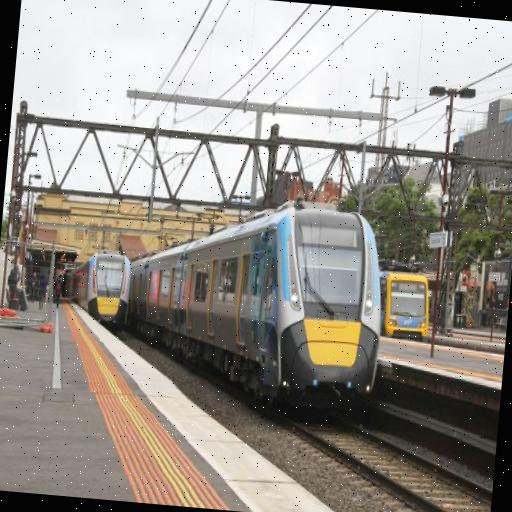Obstruction: (0, 239, 57, 332)
clear_path: (0, 301, 326, 512)
platform_edge: (67, 303, 332, 512)
tgsi: (63, 303, 227, 508)
